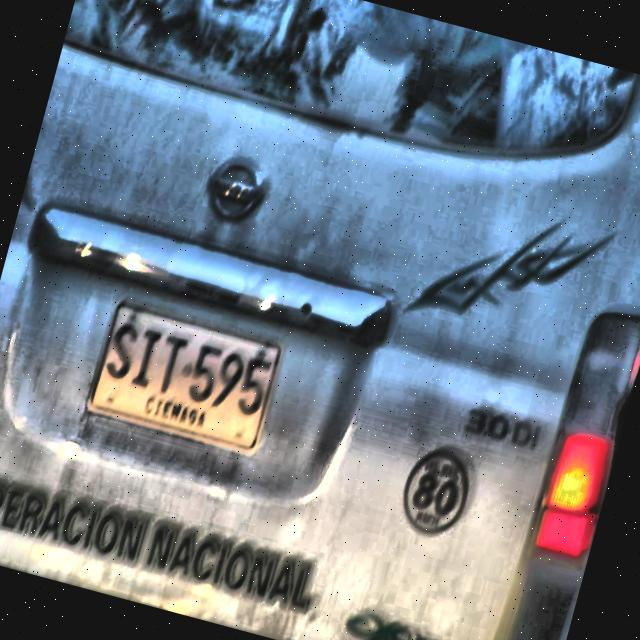5: (232, 356, 272, 422), (184, 342, 223, 407)
9: (208, 348, 249, 416)
I: (128, 326, 164, 394)
S: (101, 320, 142, 386)
T: (150, 332, 190, 398)
